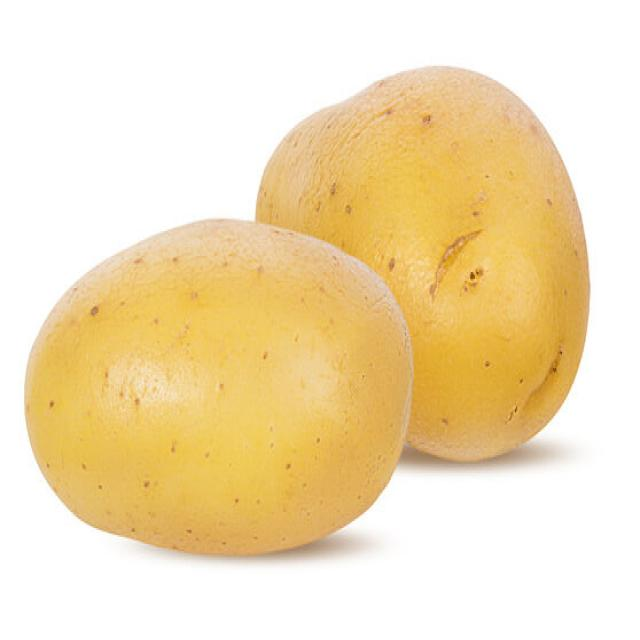Potato: (254, 62, 590, 462), (23, 215, 414, 557)
